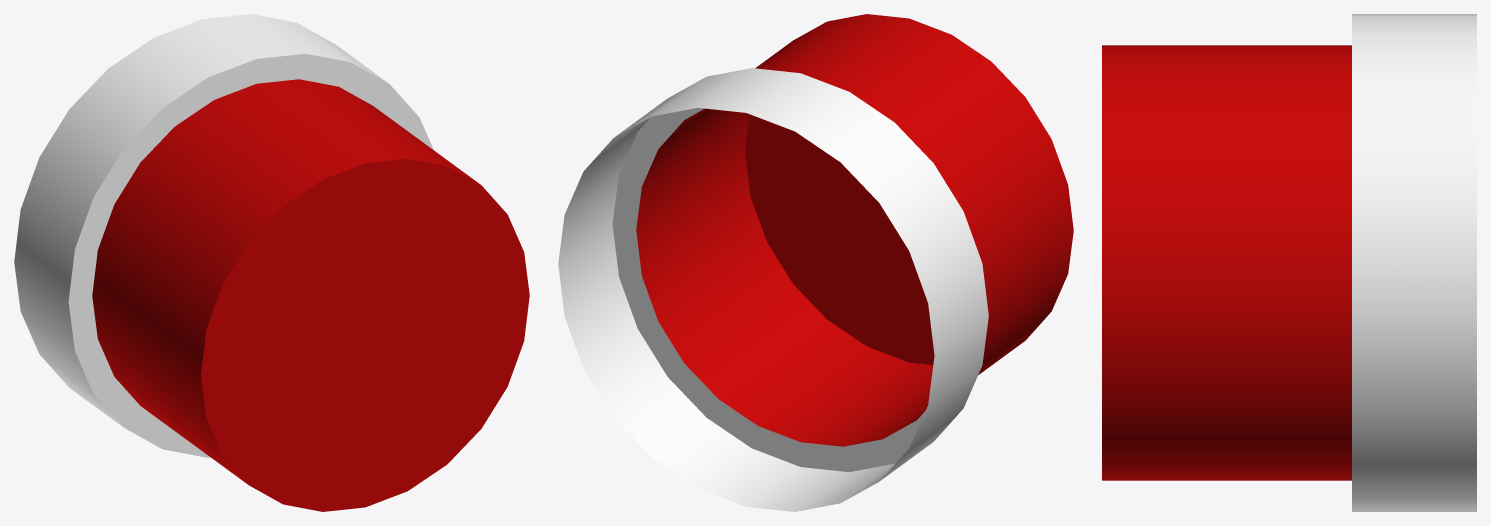
The model's file is redLight.fbx.
3 renders of one model, left to right at view 1: azimuth 30°, elevation 25°; view 2: azimuth 150°, elevation 25°; view 3: azimuth 270°, elevation 25°, orthographic. The views are drawn at different scales.
Parts seen in each view (by area): view 1: Group1, Model; view 2: Group1, Model; view 3: Group1, Model.
Part boxes in pixels (box(x1,y1,x2,y2)): Group1: box(92, 79, 529, 511); Model: box(14, 14, 433, 457); Group1: box(636, 14, 1073, 446); Model: box(558, 68, 988, 511); Group1: box(1102, 45, 1351, 480); Model: box(1352, 14, 1476, 511).
Size of the model in its own units: 0.4 by 0.4 by 0.3.
